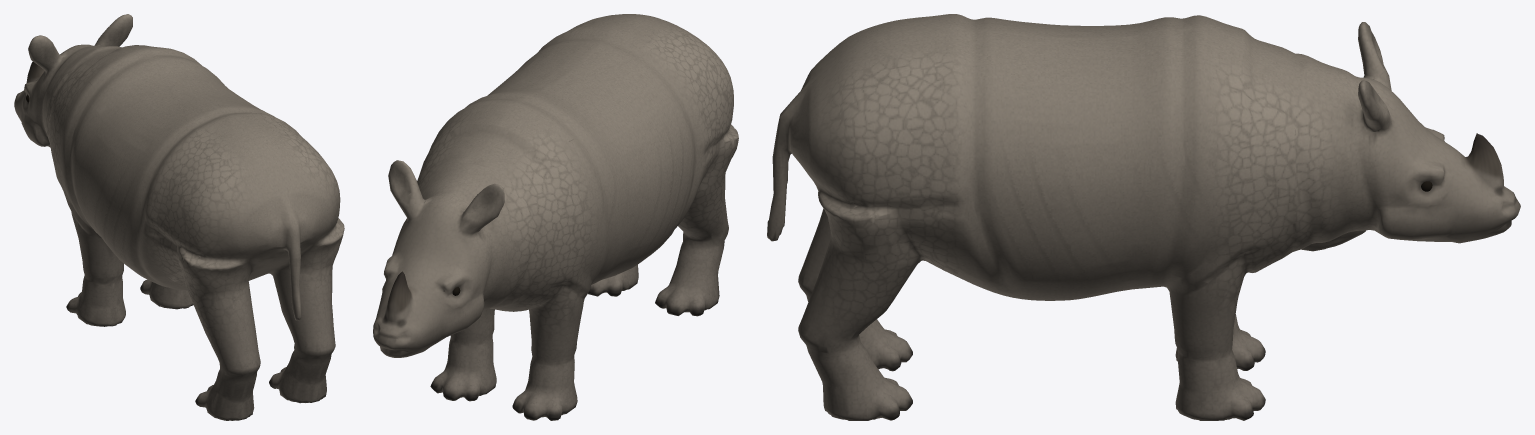
File: badak-jawa.glb
3 views of the same model, side by side, from view 1: azimuth 30°, elevation 25°; view 2: azimuth 150°, elevation 25°; view 3: azimuth 270°, elevation 25° (orthographic). The views are drawn at different scales.
Parts seen in each view (by area): view 1: Badak_Jawa; view 2: Badak_Jawa; view 3: Badak_Jawa.
Part boxes in pixels (left/top/right/bottom): Badak_Jawa: left=14, top=14, right=344, bottom=420; Badak_Jawa: left=373, top=14, right=738, bottom=420; Badak_Jawa: left=767, top=14, right=1520, bottom=420.
Bounding box in the file's own units: 1.06 × 1.52 × 2.9.
2 materials, 1 textured.
